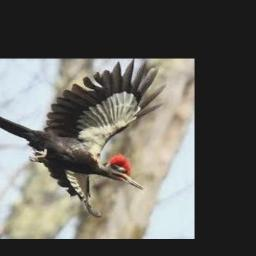Woodpecker: (0, 59, 166, 217)
